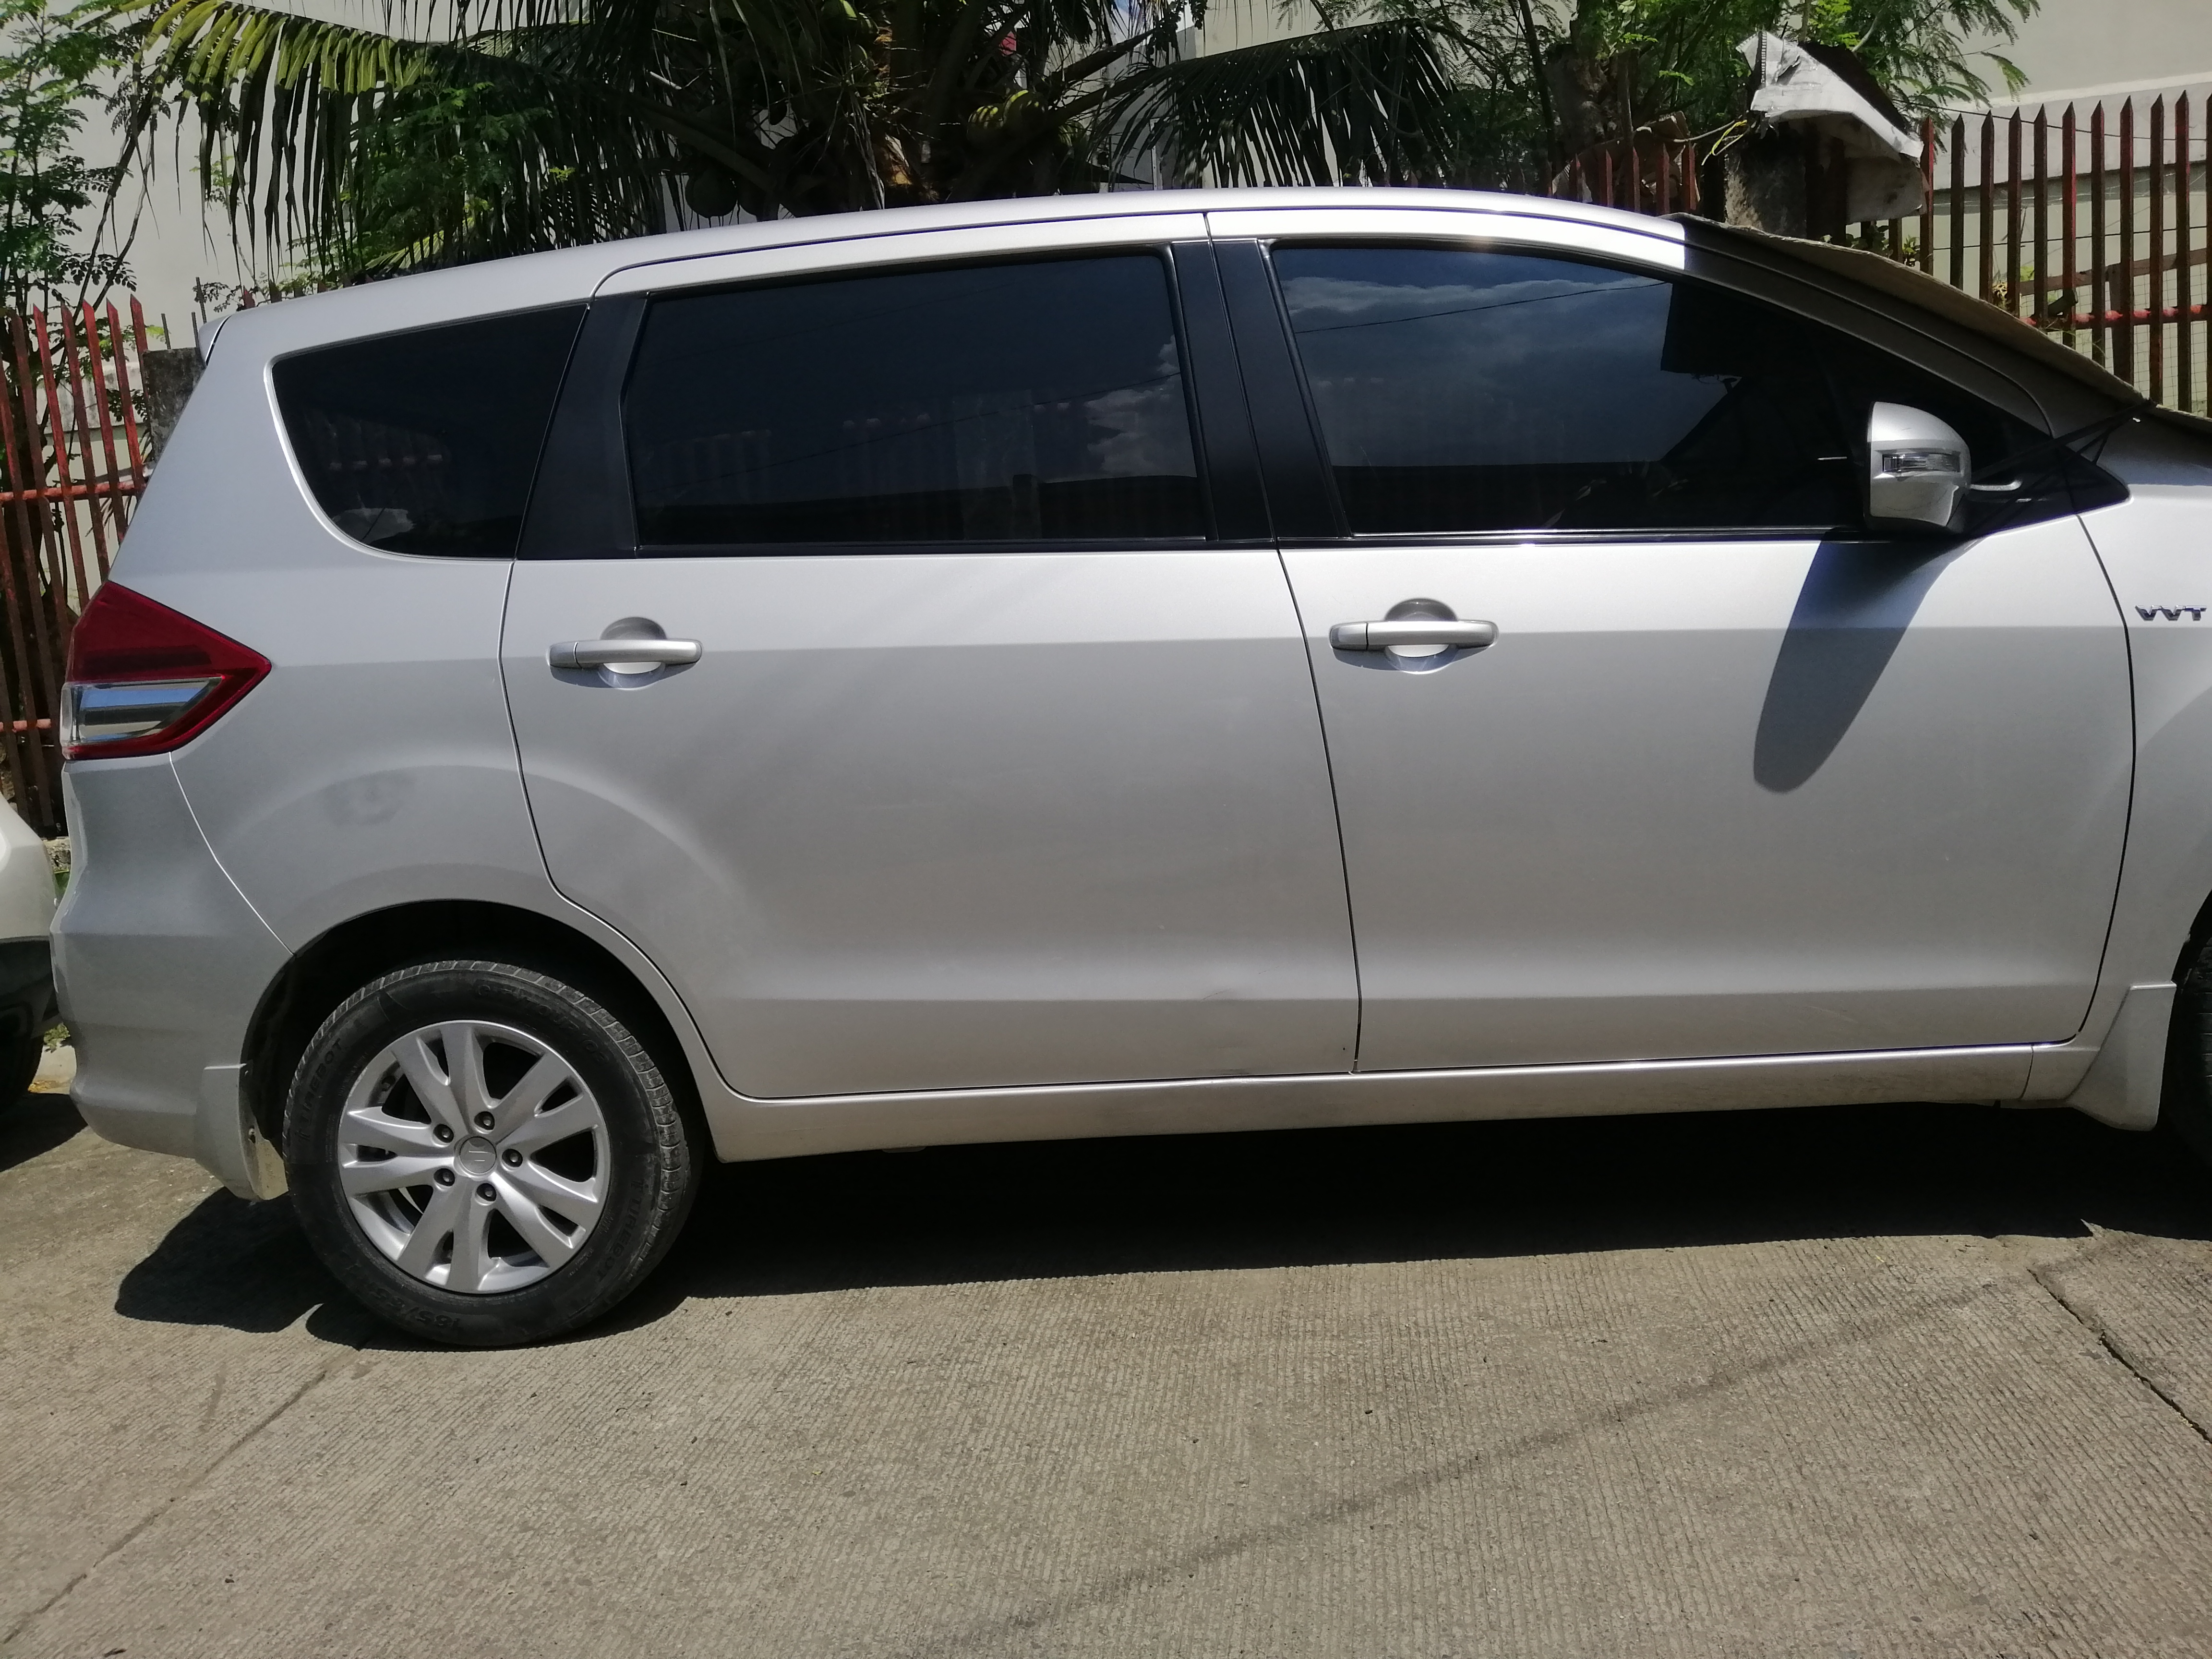car: (51, 200, 2212, 1326)
